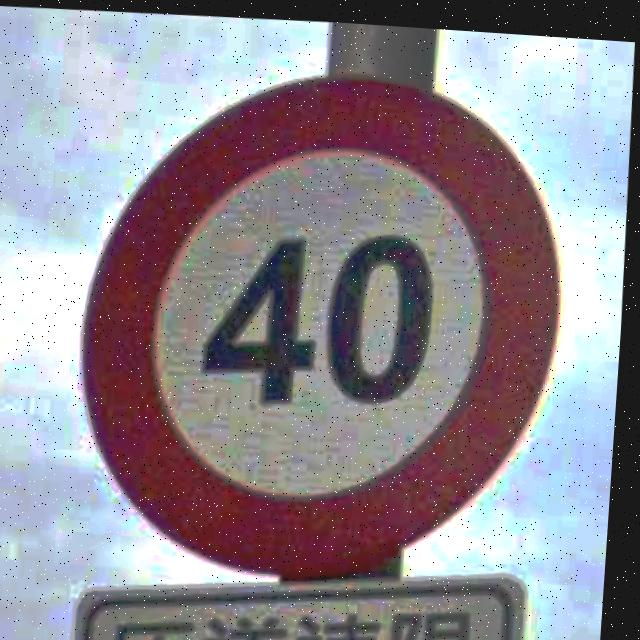max40: (67, 47, 581, 589)
